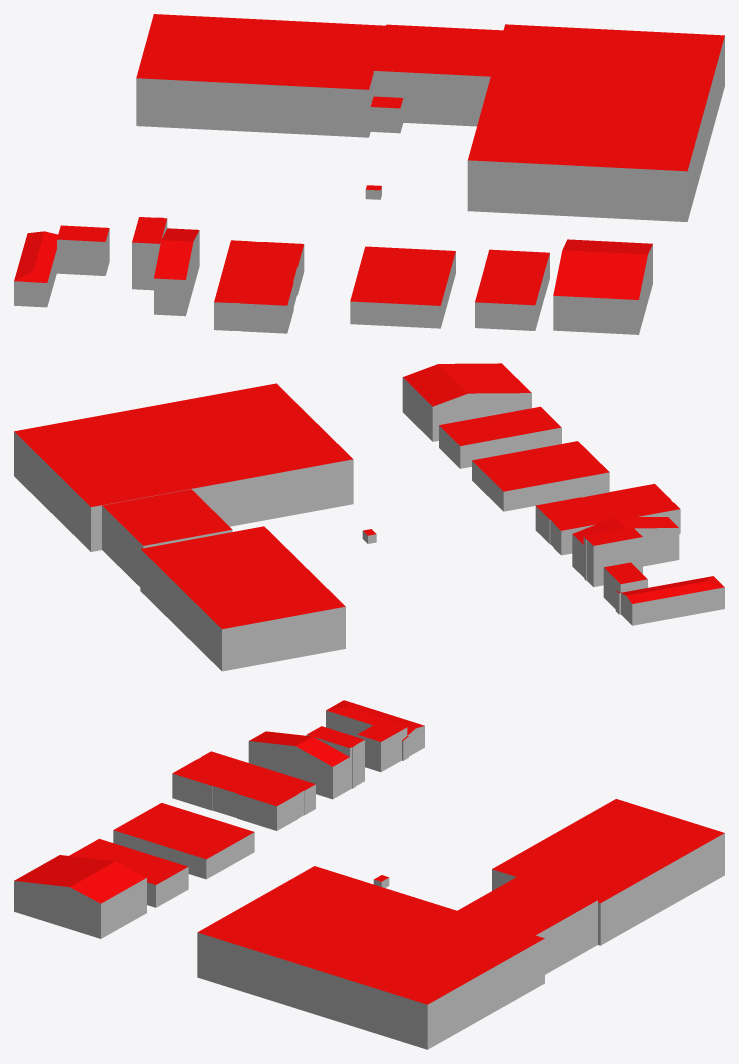
The picture shows the model from 3 angles, top to bottom: view 1: azimuth 30°, elevation 25°; view 2: azimuth 150°, elevation 25°; view 3: azimuth 270°, elevation 25°; orthographic projection. The views are drawn at different scales.
Size of the model in its own units: 245 by 15.67 by 224.
